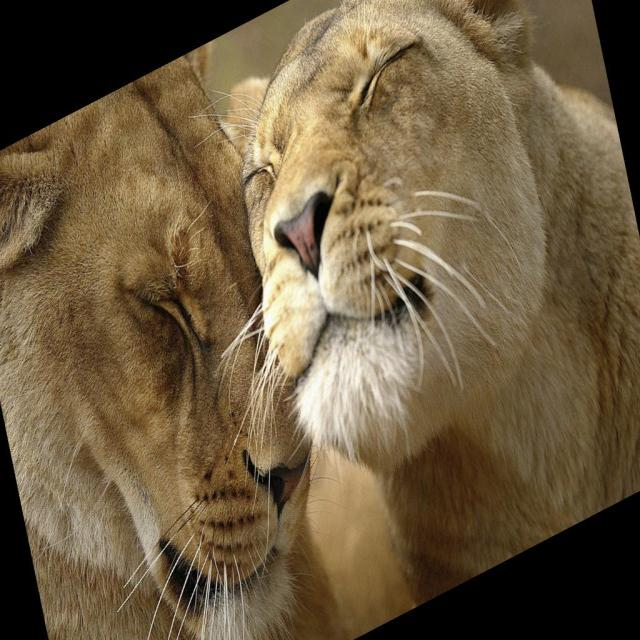Lion: (145, 0, 640, 639), (0, 21, 371, 639)
